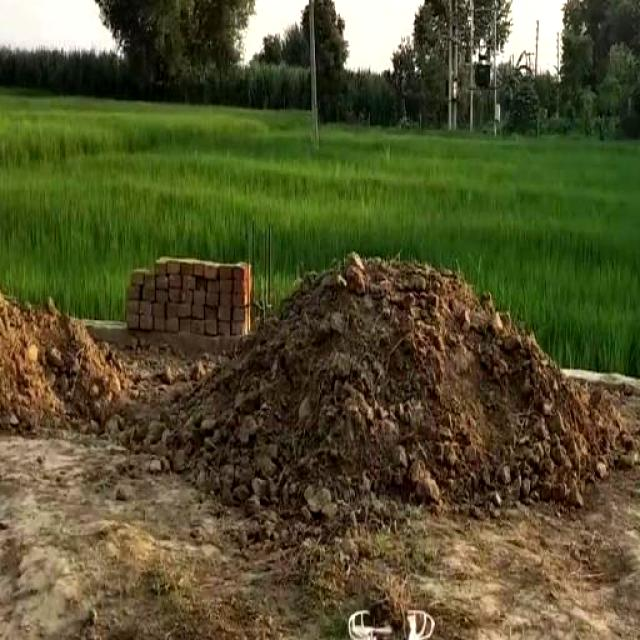bird: (338, 570, 458, 640)
